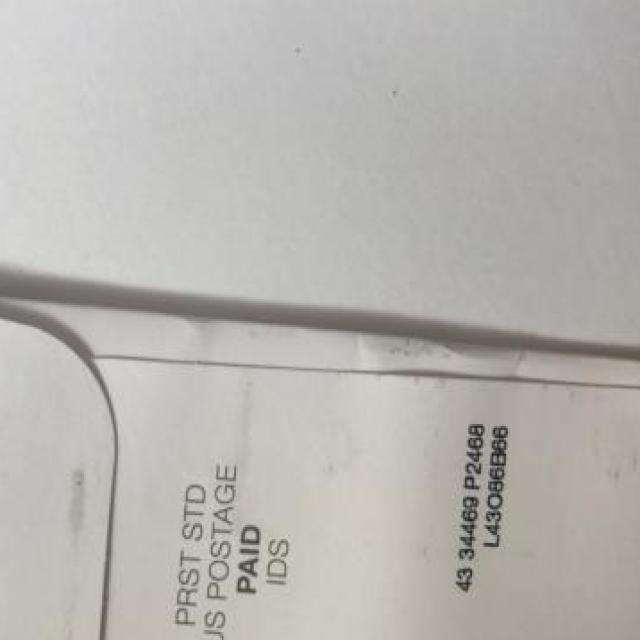organic: (13, 284, 613, 625)
